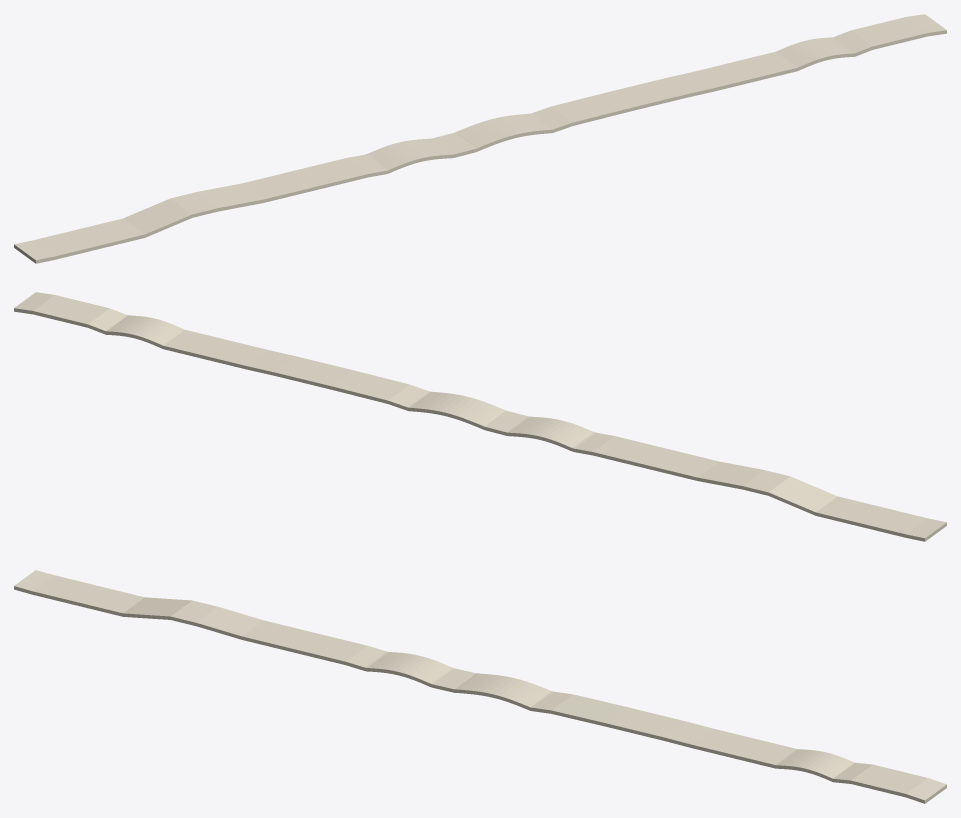
The model's file is COL_Walkable_Continuous.fbx.
3 renders of one model, top to bottom at view 1: azimuth 30°, elevation 25°; view 2: azimuth 150°, elevation 25°; view 3: azimuth 330°, elevation 25°, orthographic.
Visible parts, largest first — view 1: COL_Walkable_Continuous; view 2: COL_Walkable_Continuous; view 3: COL_Walkable_Continuous.
Boxes of the visible parts, x1,y1,x2,y2 form: COL_Walkable_Continuous: (14, 14, 946, 263); COL_Walkable_Continuous: (14, 292, 946, 541); COL_Walkable_Continuous: (14, 570, 946, 803).
Bounding box in the file's own units: 96 × 1.48 × 4.
